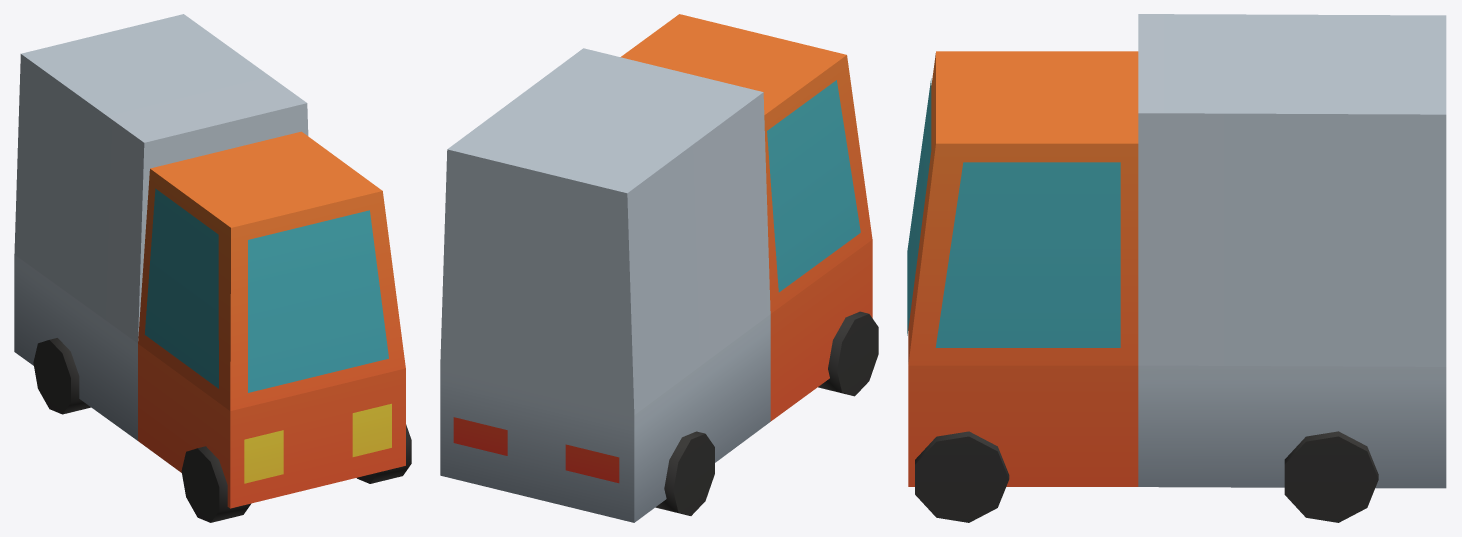
The model's file is Car_6_4.fbx.
The picture shows the model from 3 angles, left to right: view 1: azimuth 30°, elevation 25°; view 2: azimuth 150°, elevation 25°; view 3: azimuth 270°, elevation 25°; orthographic projection. The views are drawn at different scales.
Visible parts, largest first — view 1: Car_6_4; view 2: Car_6_4; view 3: Car_6_4.
Part boxes in pixels (x1=…): Car_6_4: x1=14, y1=14, x2=411, y2=522; Car_6_4: x1=440, y1=14, x2=878, y2=522; Car_6_4: x1=907, y1=14, x2=1446, y2=522.
Size of the model in its own units: 211 by 337 by 412.
